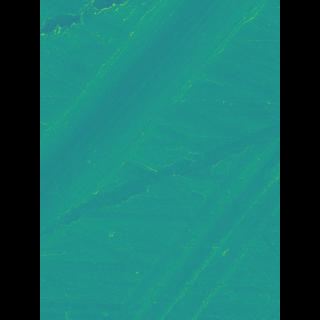Loch: (69, 0, 242, 237), (129, 127, 251, 320)
